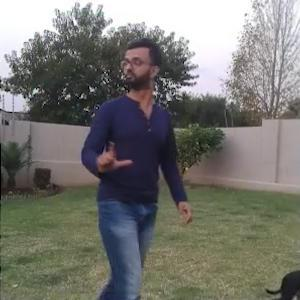land_hand: (91, 133, 137, 178)
